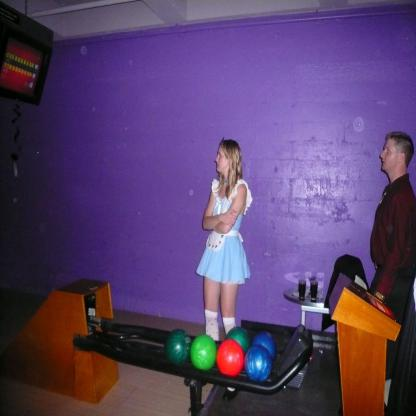Ball: (216, 340, 245, 378), (243, 346, 272, 384), (189, 333, 218, 370), (165, 330, 191, 366), (250, 331, 276, 360), (226, 327, 250, 354)
